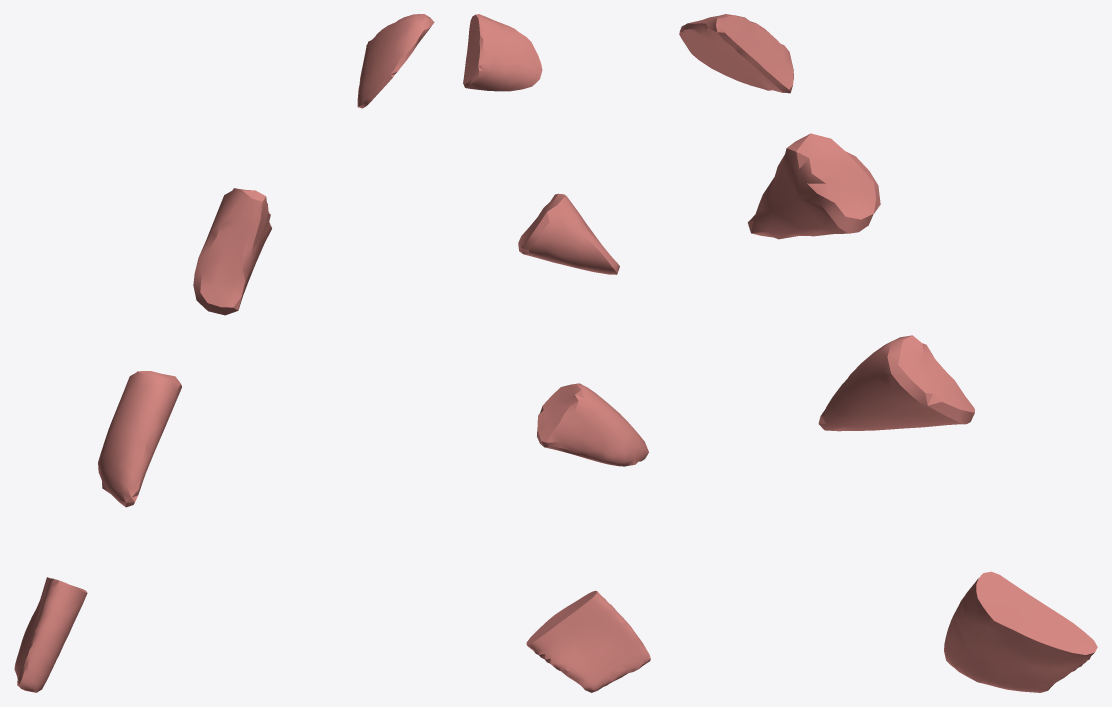
Rendered from fma48715-f_mm4271m.glb.
3 renders of one model, left to right at view 1: azimuth 30°, elevation 25°; view 2: azimuth 150°, elevation 25°; view 3: azimuth 270°, elevation 25°, orthographic. The views are drawn at different scales.
Parts seen in each view (by area): view 1: FMA48715-F_MM4271M; view 2: FMA48715-F_MM4271M; view 3: FMA48715-F_MM4271M.
Boxes of the visible parts, box(x1,y1,x2,y2) form: FMA48715-F_MM4271M: box(14, 14, 434, 692); FMA48715-F_MM4271M: box(463, 14, 650, 692); FMA48715-F_MM4271M: box(679, 14, 1097, 692).
Bounding box in the file's own units: 0.0455 × 0.0936 × 0.0424.
